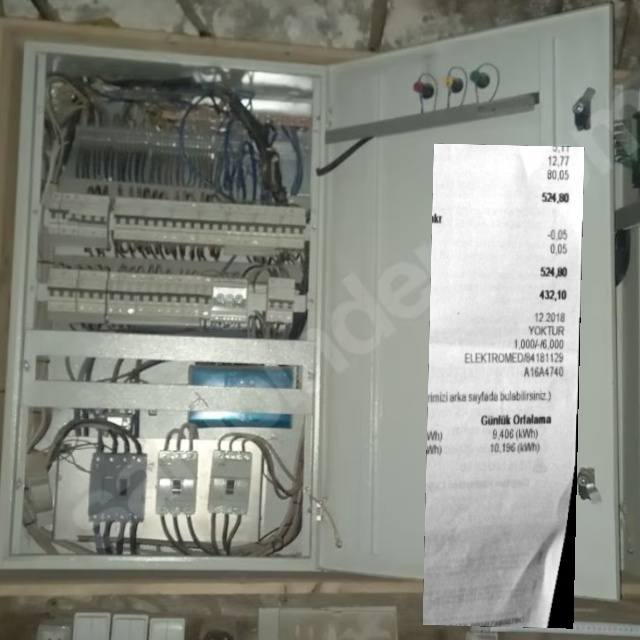electricity-bill: (421, 143, 584, 629)
